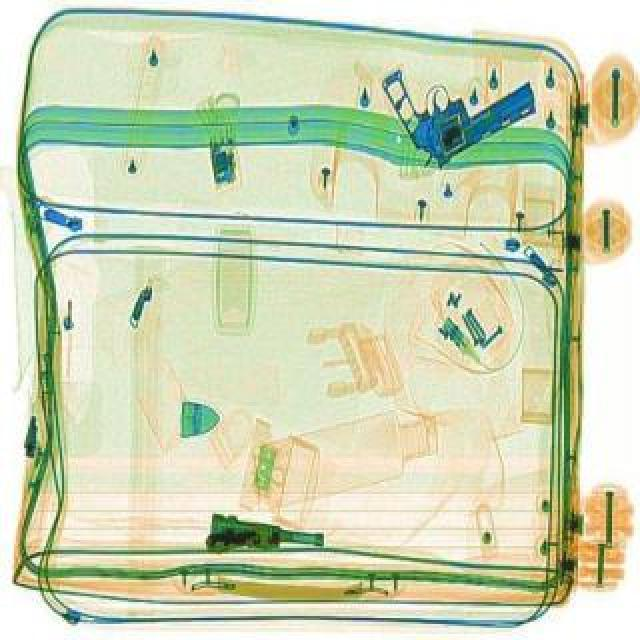gun: (368, 18, 546, 174), (202, 508, 326, 564)
